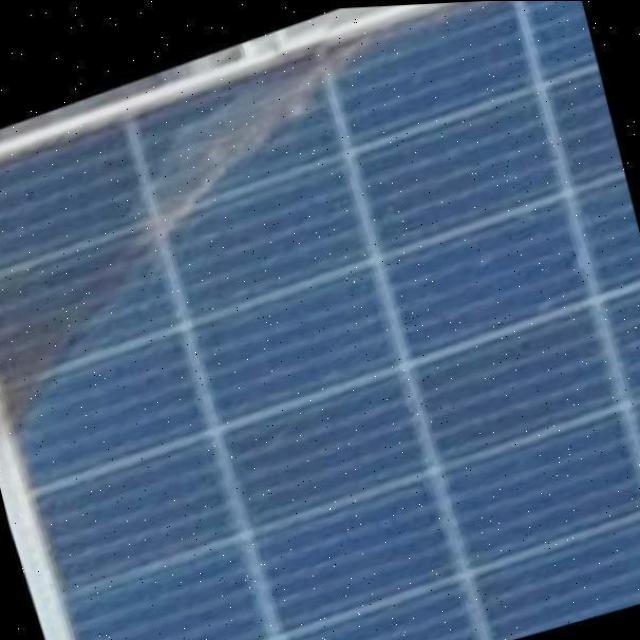Surface Contaminant: (0, 0, 559, 452)
